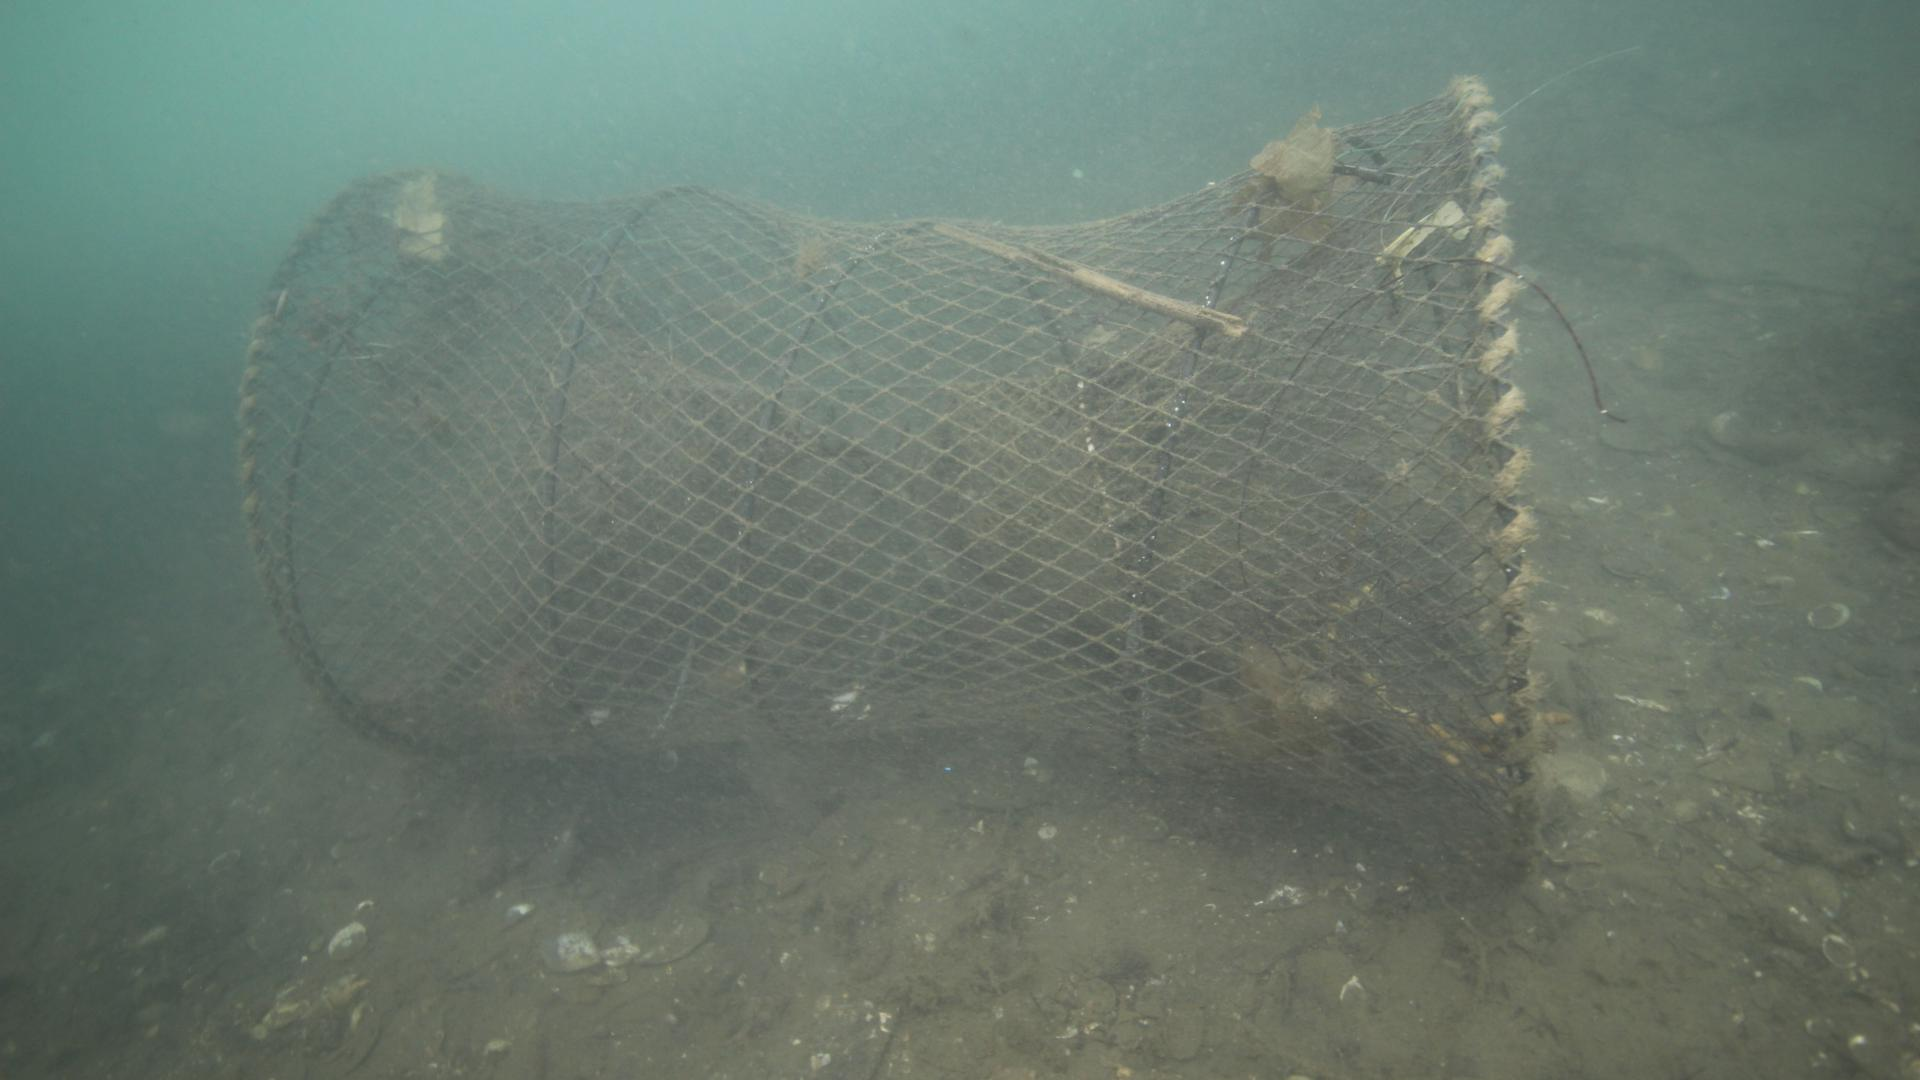spring fish trap: (231, 74, 1540, 887)
